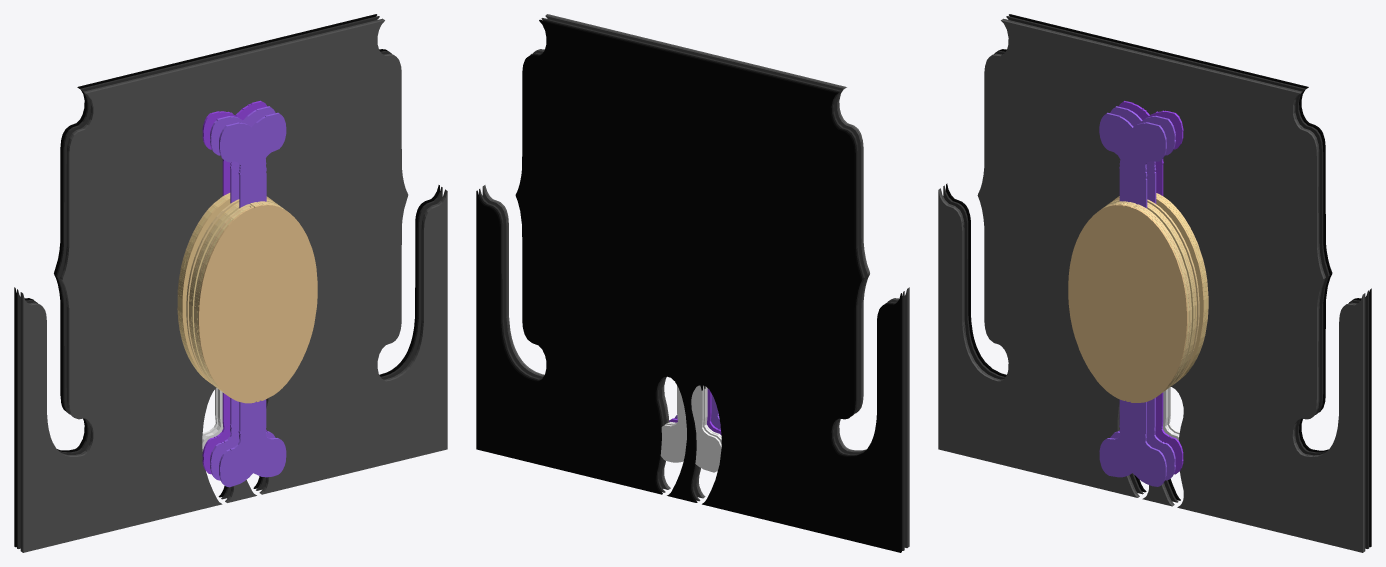
The model's file is GeekCode.glb.
The picture shows the model from 3 angles, left to right: view 1: azimuth 30°, elevation 25°; view 2: azimuth 150°, elevation 25°; view 3: azimuth 330°, elevation 25°; orthographic projection.
Parts seen in each view (by area): view 1: color_6_0, color_24_0, color_24_1, color_2_0, color_20_2, color_20_3, color_0_0, color_5_0, color_13_3, color_13_2, color_7_3, color_7_2 (+2 smaller); view 2: color_0_0, color_5_0, color_2_0, color_0_1, color_0_2, color_6_0, color_1_5, color_1_2; view 3: color_6_0, color_24_0, color_2_0, color_20_3, color_20_2, color_0_0, color_24_1, color_5_0, color_13_2, color_7_2, color_13_3, color_11_0 (+2 smaller).
Part boxes in pixels (x1,y1,x2,y2): color_6_0: (22, 19, 447, 552); color_24_0: (198, 204, 317, 402); color_24_1: (198, 204, 317, 403); color_2_0: (17, 16, 442, 548); color_20_2: (238, 112, 286, 477); color_20_3: (219, 122, 266, 487); color_0_0: (14, 14, 439, 547); color_5_0: (20, 18, 446, 551); color_13_3: (210, 116, 244, 480); color_13_2: (230, 106, 275, 445); color_7_3: (202, 111, 236, 474); color_7_2: (222, 100, 267, 439); color_0_0: (476, 19, 901, 552); color_5_0: (482, 15, 908, 547); color_2_0: (479, 18, 904, 550); color_0_1: (652, 203, 702, 390); color_0_2: (675, 210, 725, 382); color_6_0: (484, 14, 909, 546); color_1_5: (677, 385, 721, 472); color_1_2: (660, 385, 703, 462); color_6_0: (938, 19, 1363, 552); color_24_0: (1068, 204, 1187, 402); color_2_0: (943, 16, 1369, 548); color_20_3: (1099, 112, 1147, 477); color_20_2: (1119, 122, 1166, 486); color_0_0: (946, 14, 1371, 547); color_24_1: (1068, 204, 1188, 402); color_5_0: (939, 18, 1365, 551); color_13_2: (1139, 115, 1175, 480); color_7_2: (1148, 110, 1183, 474); color_13_3: (1110, 106, 1156, 446); color_11_0: (1116, 197, 1204, 385).
Bounding box in the file's own units: 99.96 × 99.94 × 12.98.
